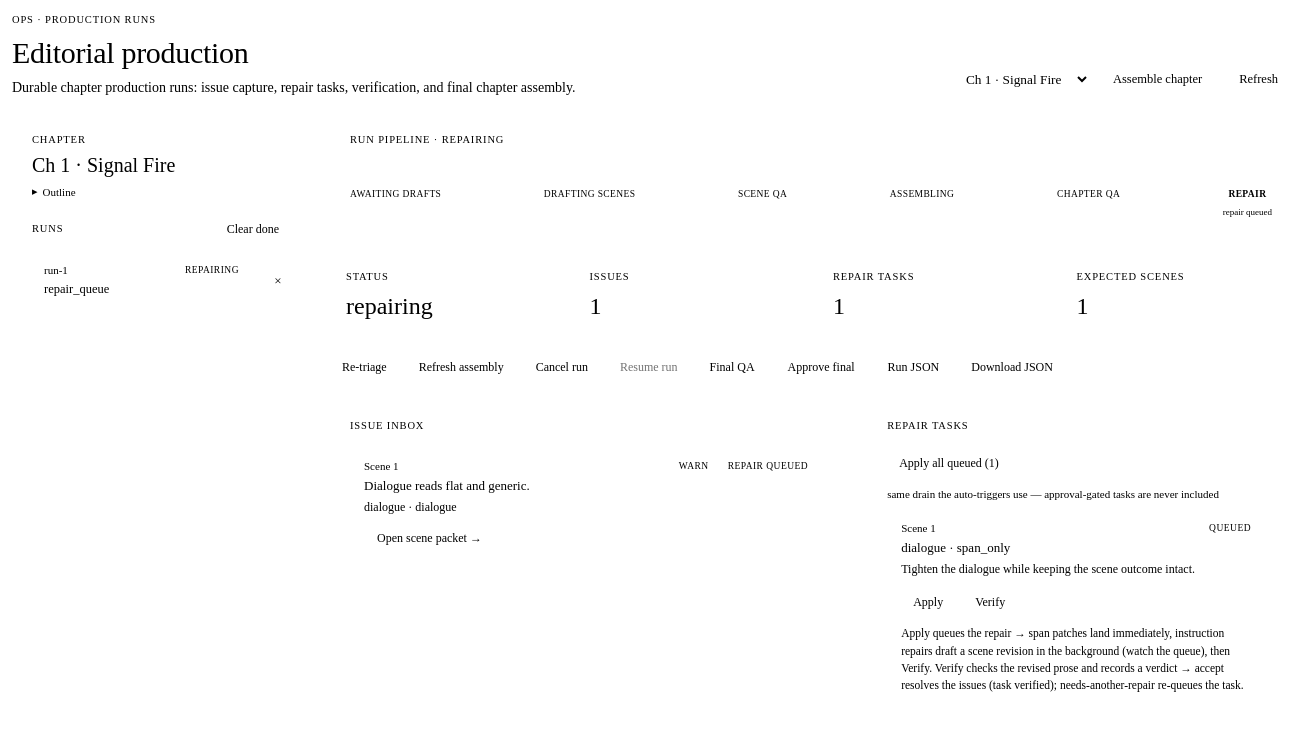
it: ProductionScreen › disables every action while one is in flight (double-submit guard)
What coordinates should you click on to do the following:
click the button "Apply"
I would click on:
 (928, 602)
Its box is [901,587,955,617].
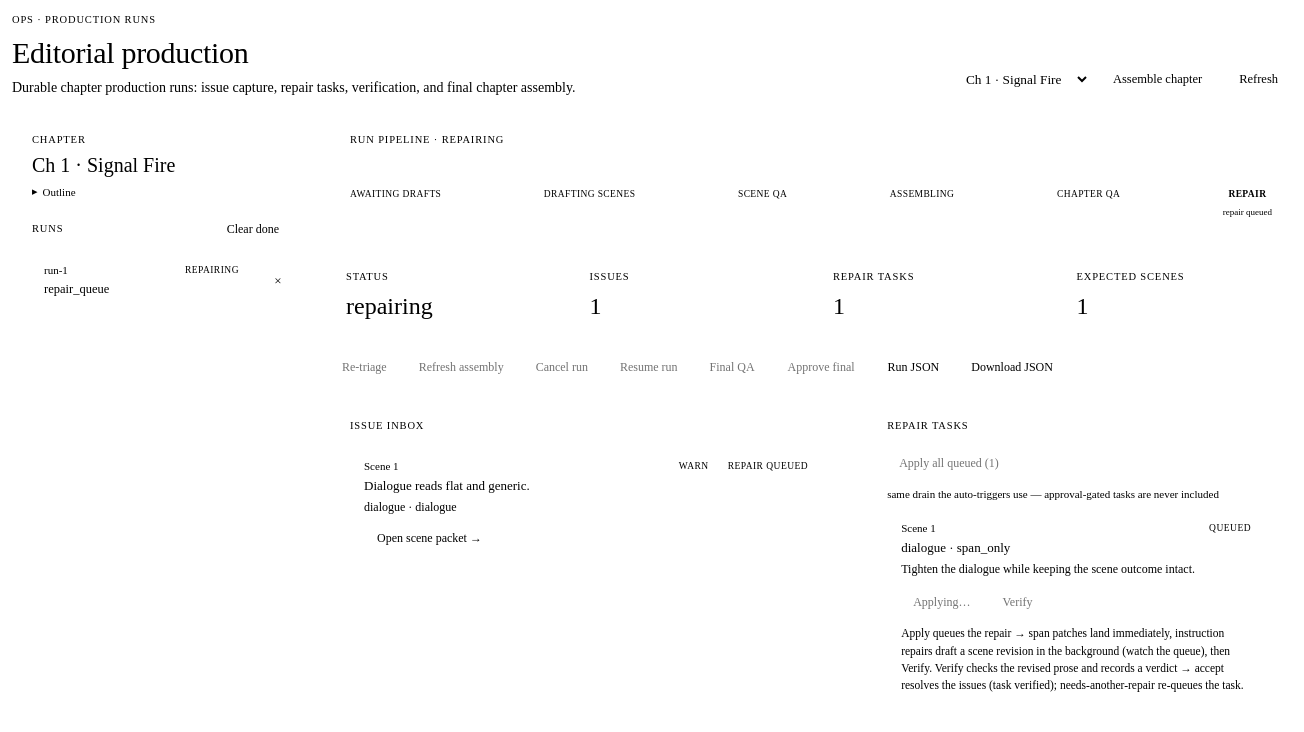
Result: the button "Applying…" is disabled at [901,587,982,617]
Result: the button "Verify" is disabled at [990,587,1044,617]
Result: the button "Re-triage" is disabled at [330,352,399,382]
